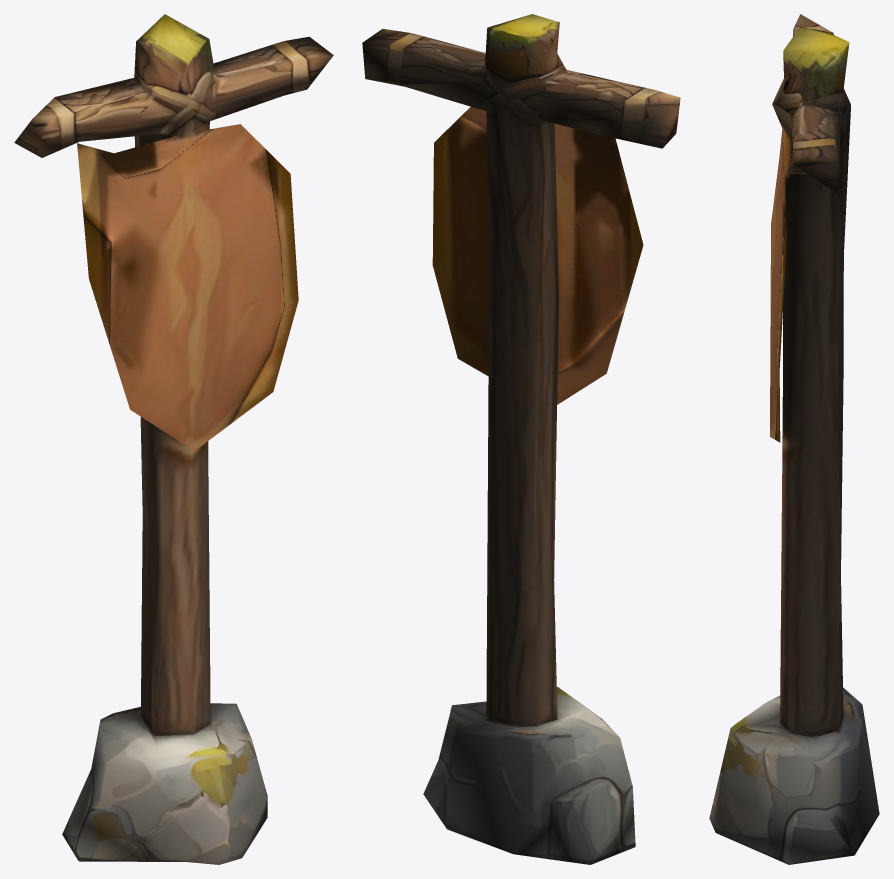
The model's file is arena_banner.glb.
3 views of the same model, side by side, from view 1: azimuth 30°, elevation 25°; view 2: azimuth 150°, elevation 25°; view 3: azimuth 270°, elevation 25° (orthographic). The views are drawn at different scales.
Visible parts, largest first — view 1: tripo_node_b0a24046-84b1-4230-b5cb-d7f069e4e7d7; view 2: tripo_node_b0a24046-84b1-4230-b5cb-d7f069e4e7d7; view 3: tripo_node_b0a24046-84b1-4230-b5cb-d7f069e4e7d7.
Boxes of the visible parts, left/top/right/bottom form: tripo_node_b0a24046-84b1-4230-b5cb-d7f069e4e7d7: left=14, top=14, right=333, bottom=864; tripo_node_b0a24046-84b1-4230-b5cb-d7f069e4e7d7: left=362, top=14, right=680, bottom=864; tripo_node_b0a24046-84b1-4230-b5cb-d7f069e4e7d7: left=709, top=14, right=879, bottom=864.
Bounding box in the file's own units: 0.3849 × 0.9891 × 0.1929.
1 material, 1 textured.
